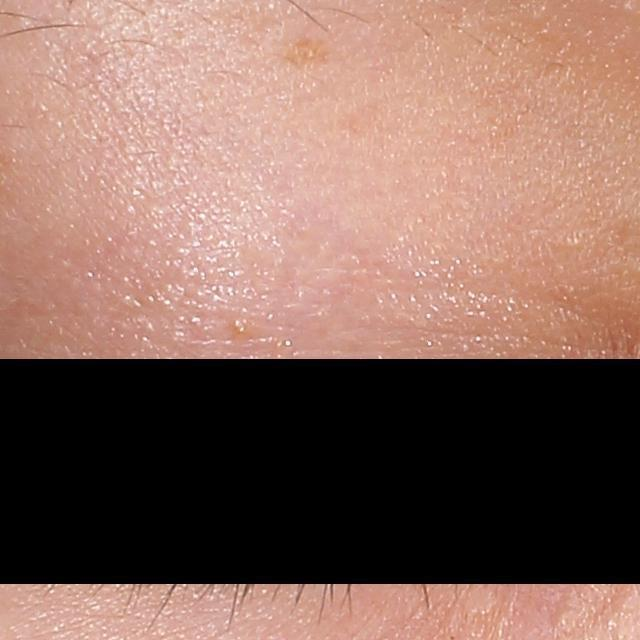melasma: (285, 32, 337, 68)
